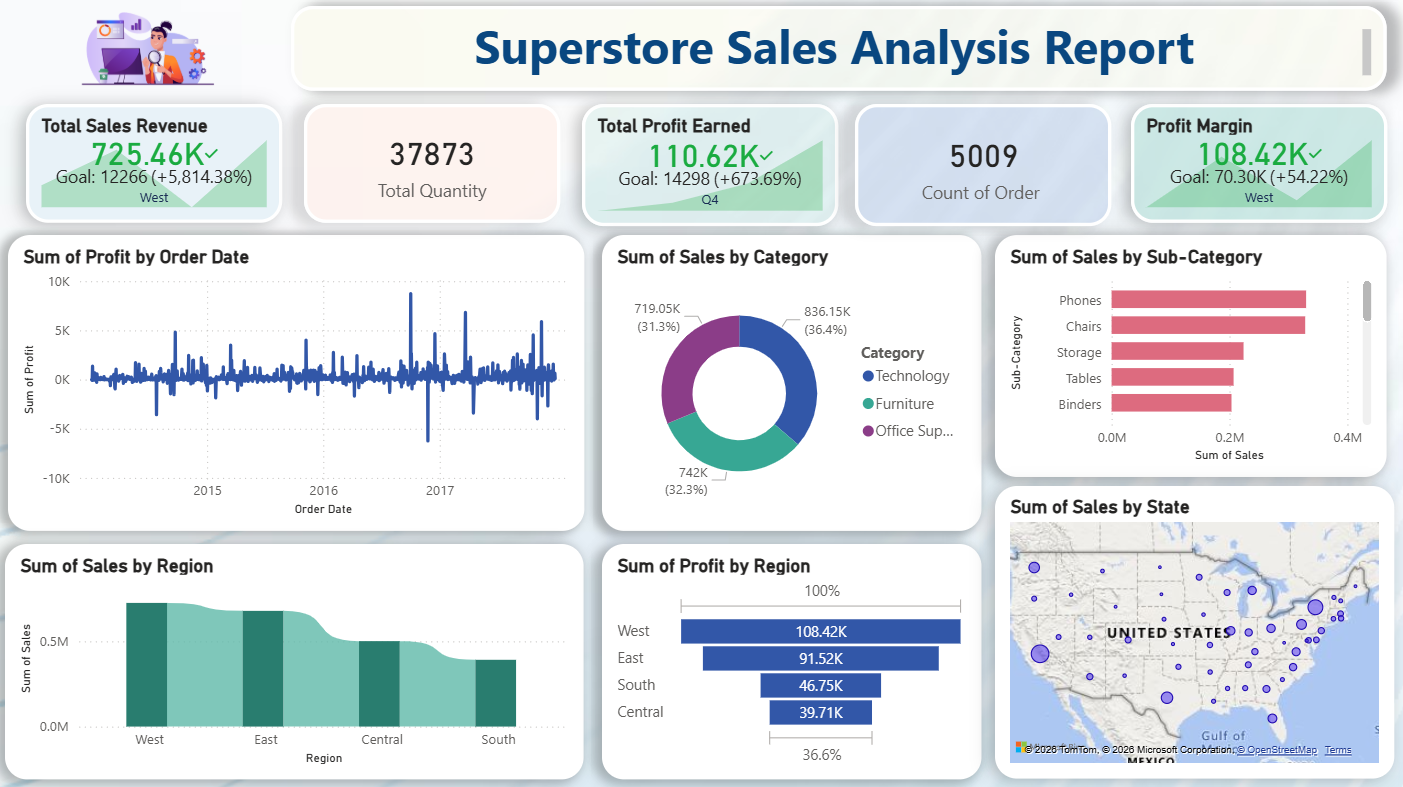

This screenshot's page, from the dashboard's own definition file:
{"tool":"powerbi","page":{"name":"Page 1","canvas":[1280,720],"ordinal":0},"visuals":[{"type":"kpi","title":"Total Sales Revenue","fields":{"Indicator":["Sum(Cleaned_Data.Sales)"],"TrendLine":["Cleaned_Data.Region"],"Goal":["Sum(Cleaned_Data.Quantity)"]},"box":[25,96.6,232.9,107.8],"z":0},{"type":"kpi","title":"Profit Margin","fields":{"Indicator":["Sum(Cleaned_Data.Profit)"],"TrendLine":["Cleaned_Data.Region"],"Goal":["Sum(Cleaned_Data.Profit Margin %)"]},"box":[1029.9,96.6,232.9,107.8],"z":1000},{"type":"kpi","title":"Total Profit Earned","fields":{"Indicator":["Sum(Cleaned_Data.Profit)"],"TrendLine":["Cleaned_Data.Order Quarter"],"Goal":["Sum(Cleaned_Data.Quantity)"]},"box":[531.3,96.6,232.9,111.3],"z":2000},{"type":"lineChart","fields":{"Category":["Cleaned_Data.Order Date"],"Y":["Sum(Cleaned_Data.Profit)"]},"box":[8.8,215.4,524.4,268.8],"z":3000},{"type":"donutChart","fields":{"Category":["Cleaned_Data.Category"],"Y":["Sum(Cleaned_Data.Sales)"]},"box":[549.1,215.5,344.5,269.1],"z":4000},{"type":"ribbonChart","fields":{"Category":["Cleaned_Data.Region"],"Y":["Sum(Cleaned_Data.Sales)"]},"box":[6.8,496,526.2,214],"z":5000},{"type":"funnel","fields":{"Category":["Cleaned_Data.Region"],"Y":["Sum(Cleaned_Data.Profit)"]},"box":[548.9,496.4,345,213.6],"z":6000},{"type":"clusteredBarChart","fields":{"Category":["Cleaned_Data.Sub-Category"],"Y":["Sum(Cleaned_Data.Sales)"]},"box":[906.2,215.4,356.3,219.8],"z":7000},{"type":"map","fields":{"Category":["Cleaned_Data.State"],"Size":["Sum(Cleaned_Data.Sales)"]},"box":[906.2,443.9,363.3,266.2],"z":8000},{"type":"textbox","box":[266.4,7.3,996.4,77.3],"z":9000},{"type":"image","box":[36.4,0,196.4,94.5],"z":10000},{"type":"card","fields":{"Values":["Sum(Cleaned_Data.Quantity)"]},"box":[278.6,96.6,232.9,107.8],"z":11000},{"type":"card","fields":{"Values":["Count(Cleaned_Data.Order ID)"]},"box":[778.9,96.6,232.9,111.3],"z":12000}]}

Visuals, with their boxes in screenshot pixels (x1, y1, x2, y2), scaled from the page's 1280x720 canvas onto the 1403x787 screenshot:
"Total Sales Revenue" kpi: region(27, 106, 283, 223)
"Profit Margin" kpi: region(1129, 106, 1384, 223)
"Total Profit Earned" kpi: region(582, 106, 838, 227)
lineChart - Cleaned_Data.Order Date x Sum(Cleaned_Data.Profit): region(10, 235, 584, 529)
donutChart - Cleaned_Data.Category x Sum(Cleaned_Data.Sales): region(602, 236, 979, 530)
ribbonChart - Cleaned_Data.Region x Sum(Cleaned_Data.Sales): region(7, 542, 584, 776)
funnel - Cleaned_Data.Region x Sum(Cleaned_Data.Profit): region(602, 543, 980, 776)
clusteredBarChart - Cleaned_Data.Sub-Category x Sum(Cleaned_Data.Sales): region(993, 235, 1384, 476)
map - Cleaned_Data.State x Sum(Cleaned_Data.Sales): region(993, 485, 1391, 776)
textbox: region(292, 8, 1384, 92)
image: region(40, 0, 255, 103)
card - Sum(Cleaned_Data.Quantity): region(305, 106, 561, 223)
card - Count(Cleaned_Data.Order ID): region(854, 106, 1109, 227)
